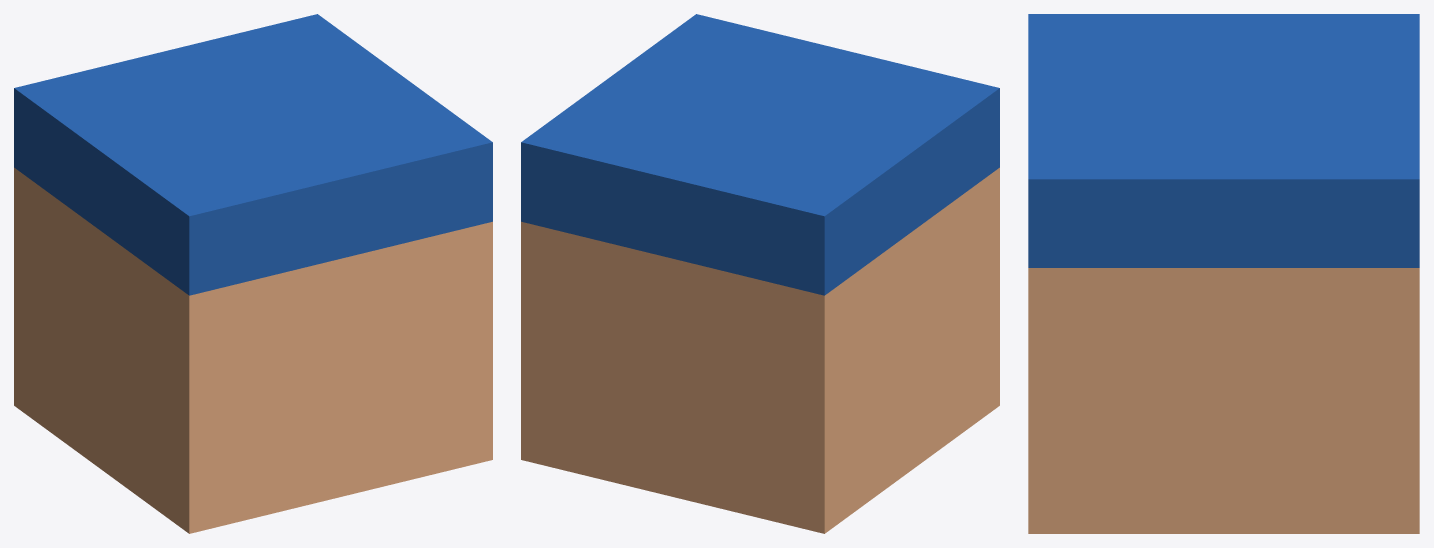
The model's file is sand-block-with-water.obj.
The picture shows the model from 3 angles, left to right: view 1: azimuth 30°, elevation 25°; view 2: azimuth 150°, elevation 25°; view 3: azimuth 270°, elevation 25°; orthographic projection. The views are drawn at different scales.
Size of the model in its own units: 8 by 8 by 8.
1 material, 1 textured.
